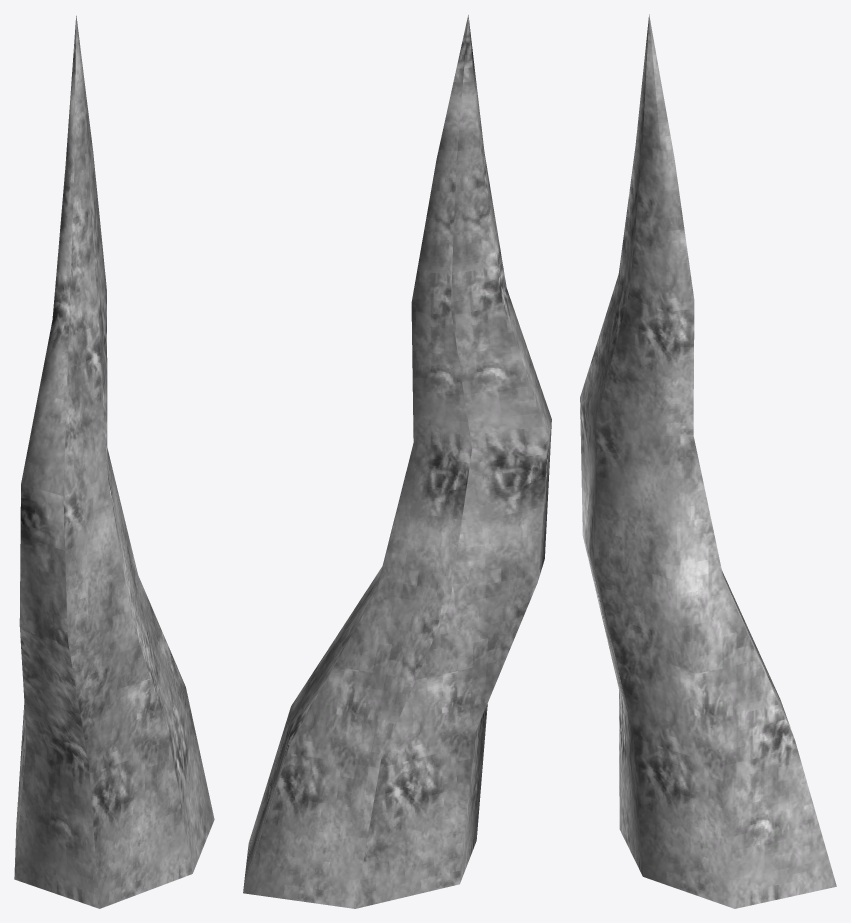
The model's file is Stalactic_04.fbx.
The picture shows the model from 3 angles, left to right: view 1: azimuth 30°, elevation 25°; view 2: azimuth 150°, elevation 25°; view 3: azimuth 270°, elevation 25°; orthographic projection. The views are drawn at different scales.
Parts seen in each view (by area): view 1: Cone004; view 2: Cone004; view 3: Cone004.
Boxes of the visible parts, x1,y1,x2,y2 form: Cone004: (14, 15, 214, 908); Cone004: (243, 15, 551, 908); Cone004: (580, 14, 836, 908).
Size of the model in its own units: 0.6022 by 2 by 0.5733.
Materials: 1 (1 with a texture image).
